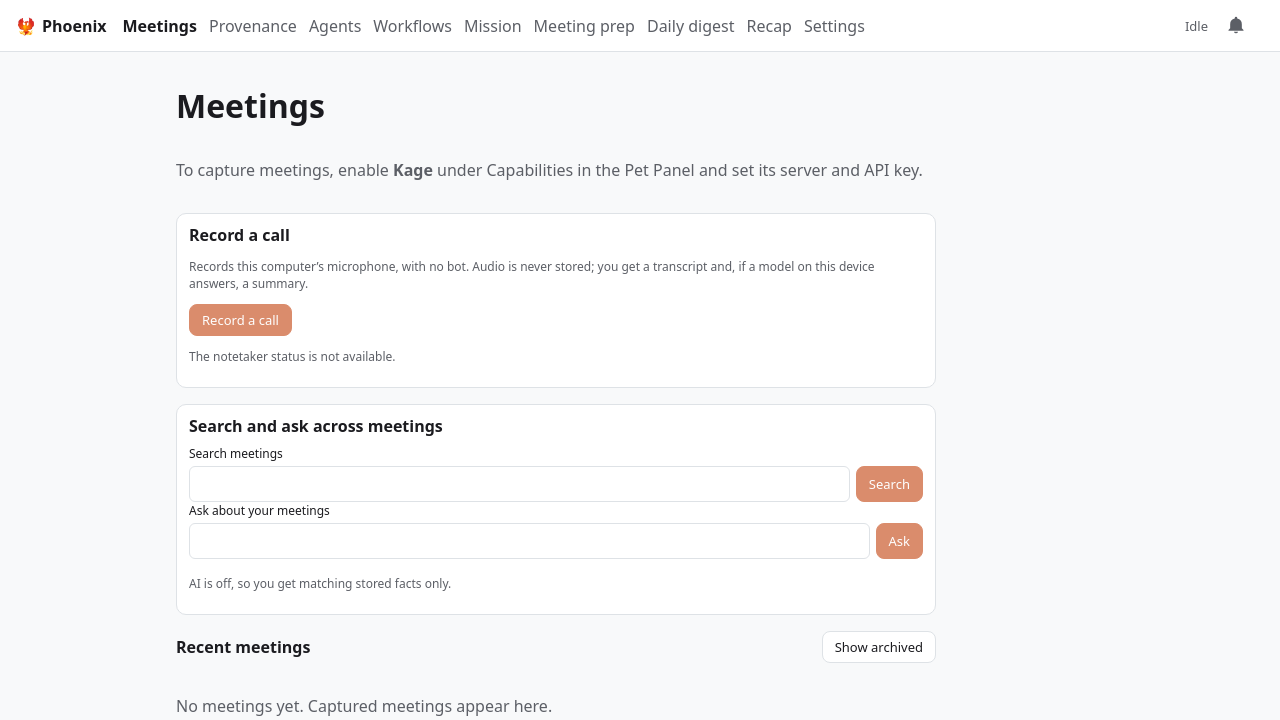
Ask across meetings › lists stored facts with their meeting, and says no AI was used when AI is off
Check: the text "AI is off, so you get matching stored facts only." is shown, box [189,575,451,592]
In the field labelled "Ask about your meetings": (529, 541) [189,523,870,559], type "who writes it?"
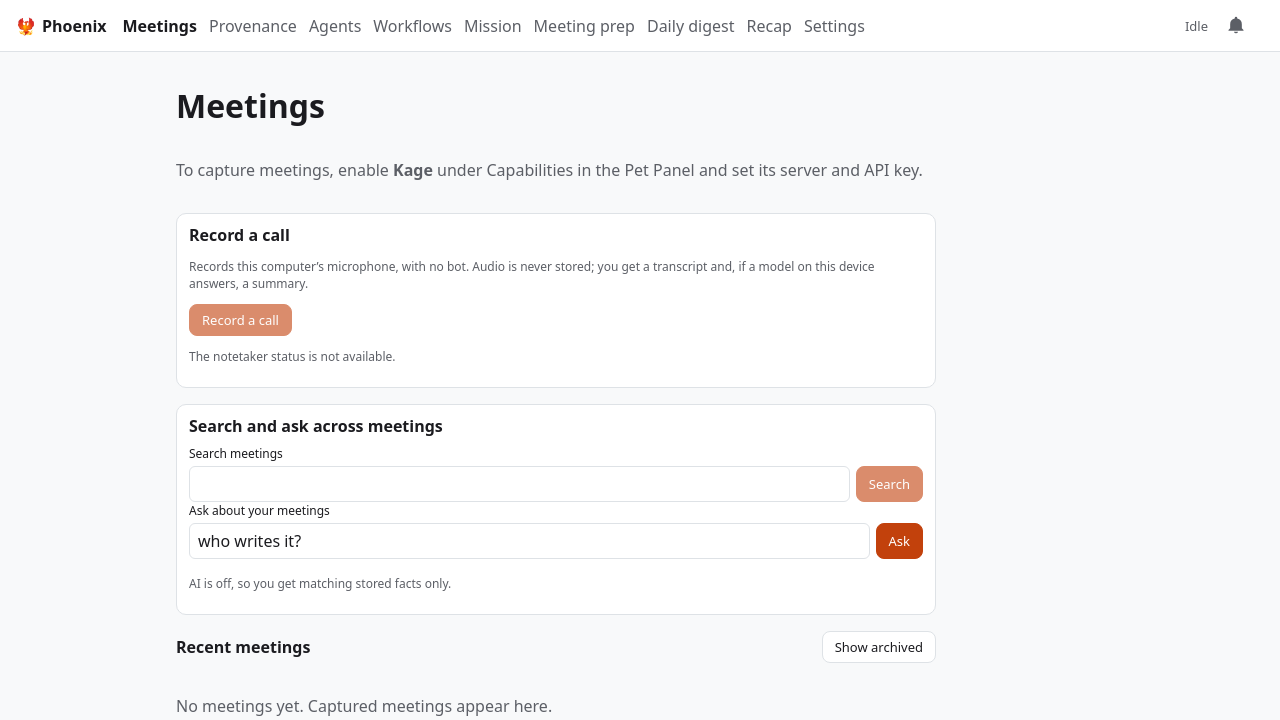
Click the button "Ask": click(899, 541) [876,523,923,559]
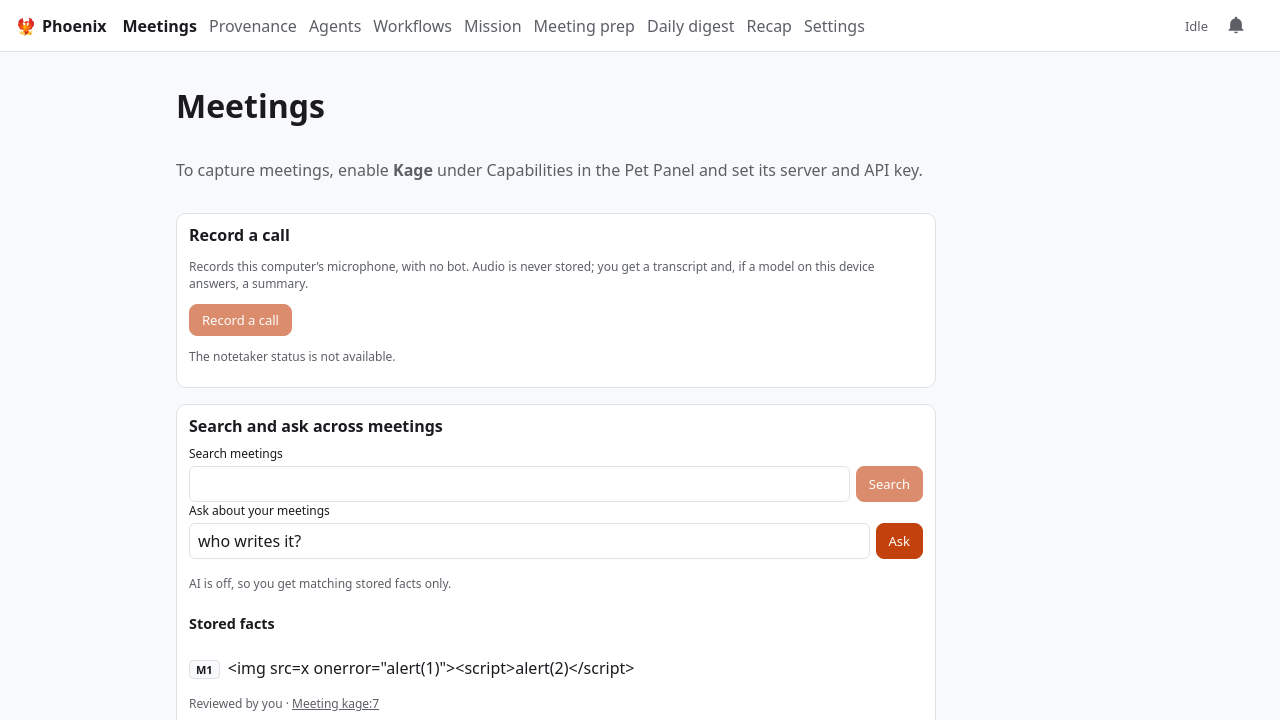
Check: the link "Meeting kage:7" is shown, box [292,695,379,712]
